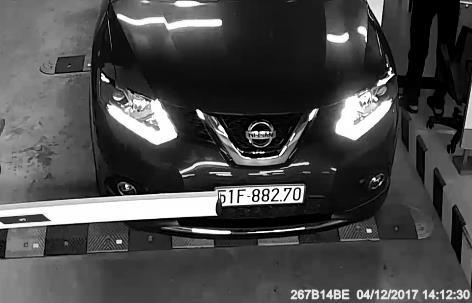License-plate: (207, 177, 318, 213)
